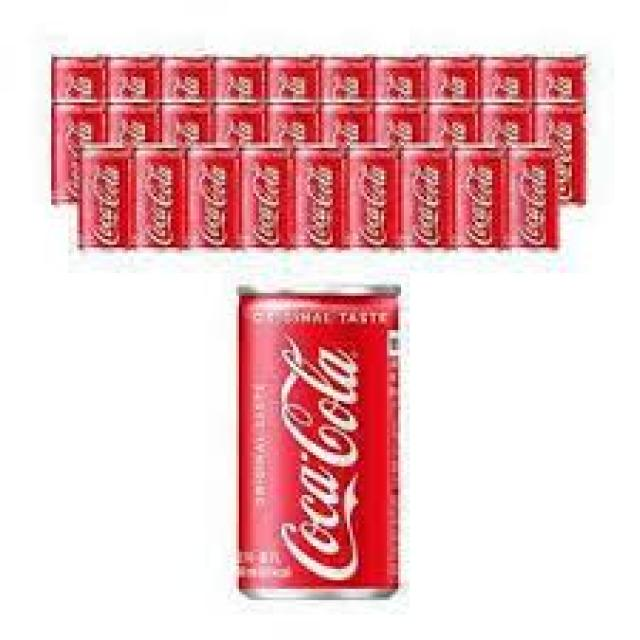Coca-Cola: (225, 283, 407, 611), (347, 138, 406, 264), (77, 137, 136, 254), (294, 137, 352, 256), (50, 96, 107, 214), (453, 140, 510, 253), (136, 141, 190, 257), (215, 51, 268, 169), (186, 143, 240, 258), (405, 143, 460, 255), (161, 92, 218, 200), (536, 62, 587, 181), (486, 64, 540, 176), (105, 100, 162, 206), (266, 51, 320, 162), (510, 145, 561, 262), (214, 94, 268, 204), (270, 102, 324, 212), (479, 100, 537, 202), (241, 144, 294, 254), (432, 51, 482, 167), (162, 56, 215, 165), (110, 56, 162, 165), (376, 55, 428, 164), (426, 104, 481, 206), (322, 57, 373, 167), (54, 56, 106, 160), (374, 108, 424, 214), (325, 106, 374, 212), (537, 102, 580, 210)
